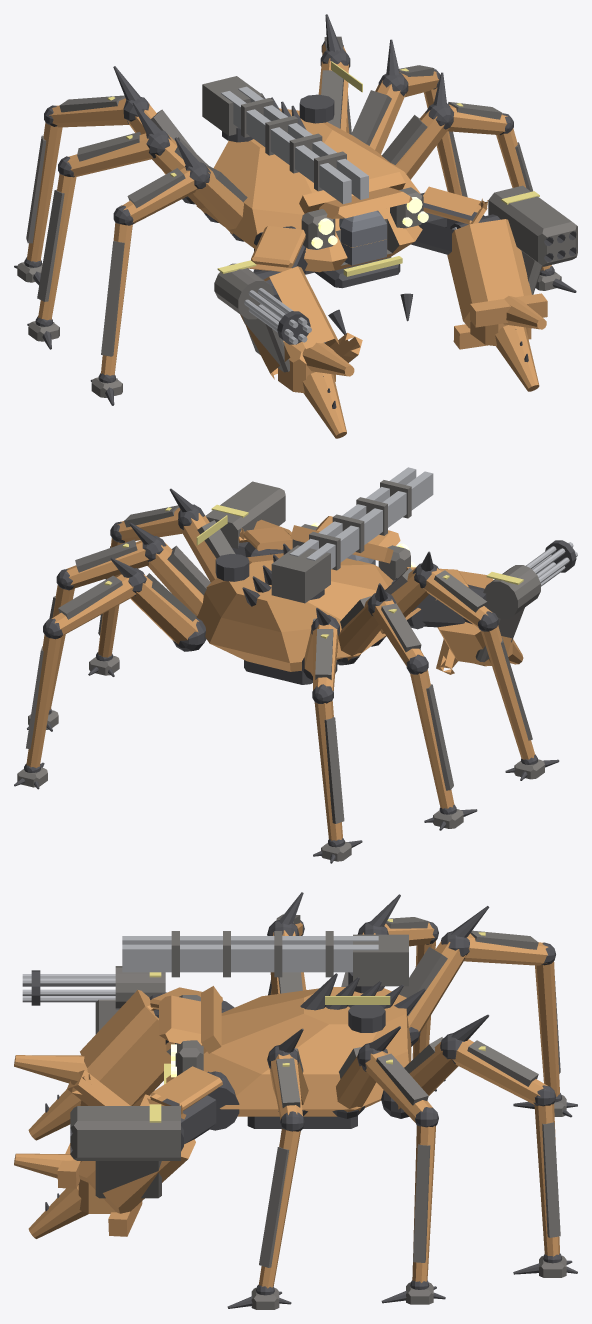
Rendered from scuttler.glb.
The picture shows the model from 3 angles, top to bottom: view 1: azimuth 30°, elevation 25°; view 2: azimuth 150°, elevation 25°; view 3: azimuth 270°, elevation 25°; orthographic projection. The views are drawn at different scales.
Parts seen in each view (by area): view 1: carapace, fore1, rockets1_box, fore-1, railgun-1_rail-0.45, brow, upper-1_front, tarsus2-1, railgun-1_breech, gatling-1_body, railgun-1_rail0.45, finger1 (+37 smaller); view 2: carapace, railgun-1_rail-0.45, rockets1_box, railgun-1_breech, fore-1, tarsus0-1, gatling-1_body, tarsus21, femur21, tarsus1-1, femur11, femur1-1 (+31 smaller); view 3: carapace, fore-1, railgun-1_rail0.45, rockets1_box, fore1, brow, railgun-1_breech, tarsus2-1, railgun-1_rail-0.45, fore_shell1, upper1_front, femur2-1 (+36 smaller).
Part boxes in pixels (bbox=[...]): carapace: bbox=[196, 108, 422, 272]; fore1: bbox=[447, 219, 547, 349]; rockets1_box: bbox=[488, 185, 577, 266]; fore-1: bbox=[240, 266, 362, 379]; railgun-1_rail-0.45: bbox=[221, 91, 351, 204]; brow: bbox=[299, 172, 412, 218]; upper-1_front: bbox=[248, 226, 305, 272]; tarsus2-1: bbox=[27, 122, 62, 261]; railgun-1_breech: bbox=[202, 76, 263, 135]; gatling-1_body: bbox=[214, 263, 273, 319]; railgun-1_rail0.45: bbox=[238, 86, 368, 199]; finger1: bbox=[495, 325, 539, 391]; carapace: bbox=[196, 553, 420, 671]; railgun-1_rail-0.45: bbox=[306, 471, 433, 569]; rockets1_box: bbox=[205, 481, 285, 548]; railgun-1_breech: bbox=[271, 545, 330, 603]; fore-1: bbox=[436, 571, 511, 674]; tarsus0-1: bbox=[481, 625, 535, 759]; gatling-1_body: bbox=[483, 565, 540, 618]; tarsus21: bbox=[26, 634, 61, 767]; femur21: bbox=[130, 574, 198, 644]; tarsus1-1: bbox=[410, 669, 454, 808]; femur11: bbox=[147, 542, 203, 615]; femur1-1: bbox=[338, 596, 381, 660]; carapace: bbox=[166, 987, 411, 1116]; fore-1: bbox=[67, 990, 170, 1105]; railgun-1_rail0.45: bbox=[122, 944, 378, 972]; rockets1_box: bbox=[70, 1106, 180, 1160]; fore1: bbox=[57, 1094, 195, 1236]; brow: bbox=[159, 986, 221, 1053]; railgun-1_breech: bbox=[353, 934, 408, 986]; tarsus2-1: bbox=[535, 961, 559, 1096]; railgun-1_rail-0.45: bbox=[122, 936, 378, 944]; fore_shell1: bbox=[95, 1161, 161, 1198]; upper1_front: bbox=[147, 1066, 222, 1119]; femur2-1: bbox=[407, 941, 465, 1031].
Bounding box in the file's own units: 24.19 × 11.05 × 24.19.
